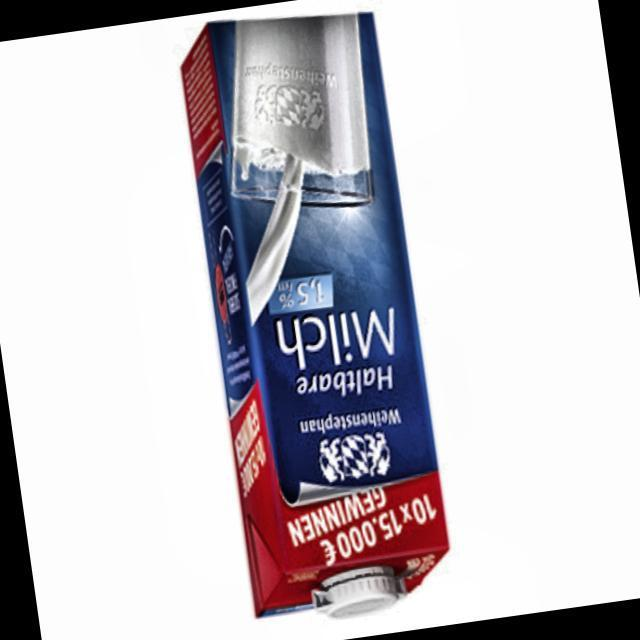cardboard: (172, 1, 459, 629)
